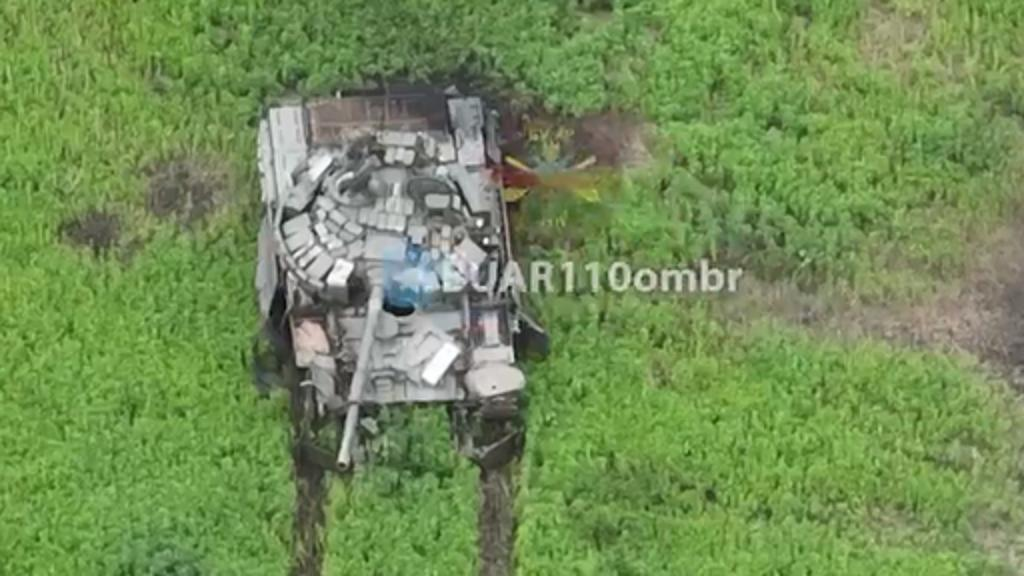TANK: (230, 56, 556, 498)
